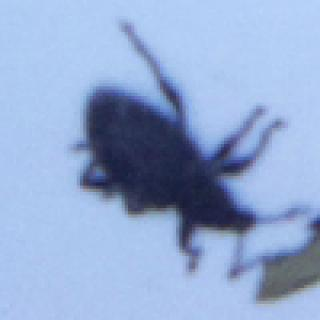bvw: (67, 20, 306, 281)
